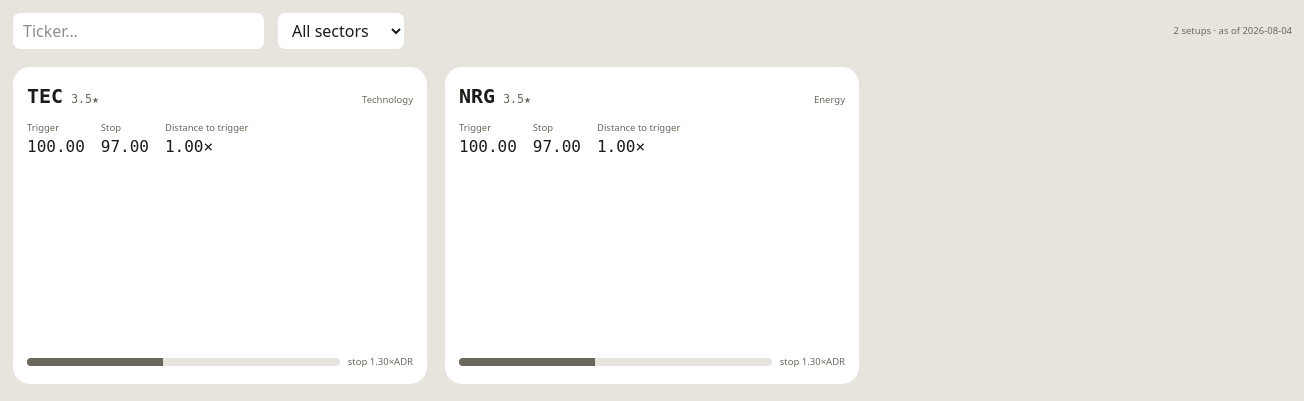
Test: Setups — the two controls (spec §5.2 / §5.6) › the sector filter cuts to the chosen sector
Select "Energy" in the dropdown named "sector" at (341, 31), box [277,12,405,50]
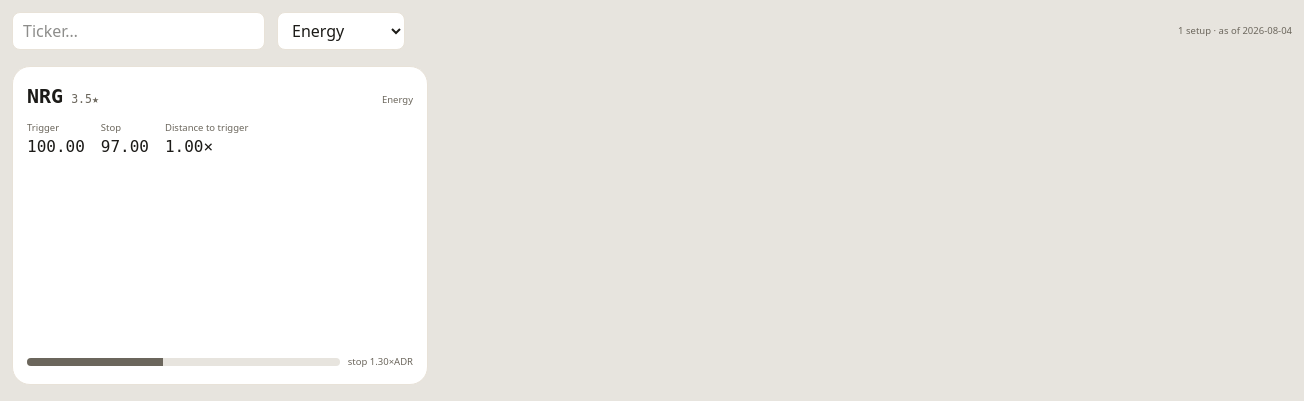
Expected: the element "NRG" is shown, [12,66,428,384]
Expected: the button "TEC" is gone
